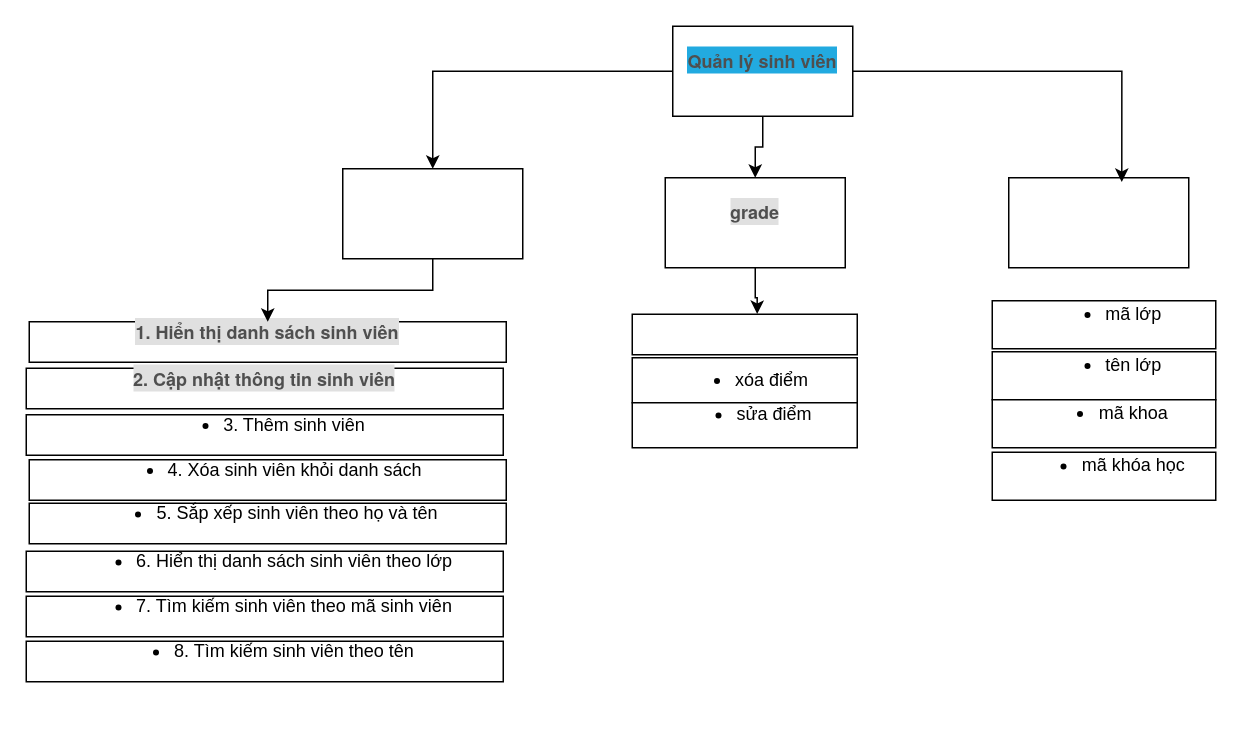
This 1242x749 diagram has some shape labels left out. The centre of each missing label's shape, as x and y in pixels:
"lớp" goes at point 1098,222.
"Sinh viên" goes at point 432,213.
"thêm điểm" goes at point 744,334.
